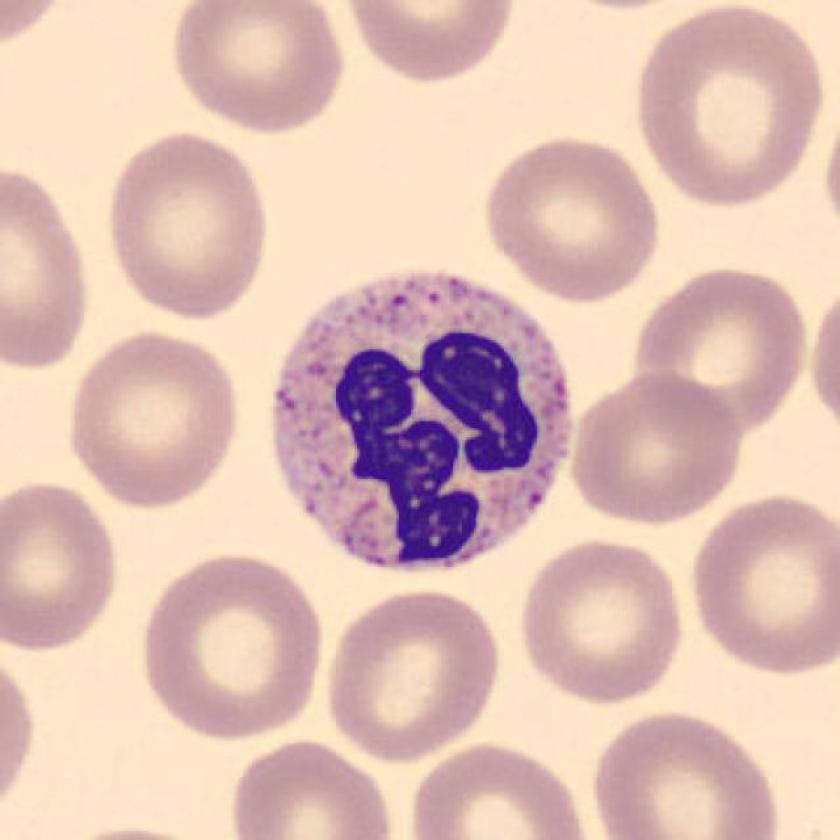neutrophil: (277, 275, 568, 568)
